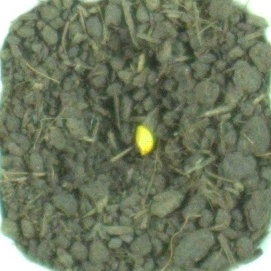pepper seed: (56, 45, 212, 203)
